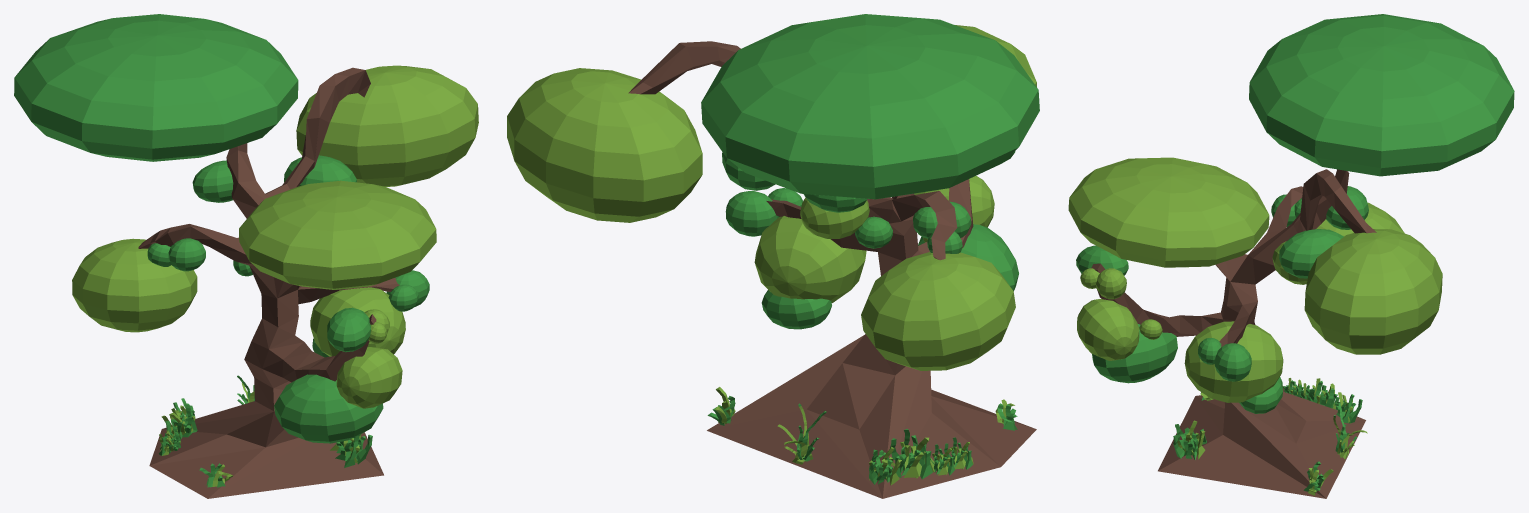
3 views of the same model, side by side, from view 1: azimuth 30°, elevation 25°; view 2: azimuth 150°, elevation 25°; view 3: azimuth 270°, elevation 25° (orthographic). The views are drawn at different scales.
Visible parts, largest first — view 1: node_MeshObject-1111887872-PolyPaper10, node_MeshObject551491840-PolyPaper10; view 2: node_MeshObject551491840-PolyPaper10, node_MeshObject-1111887872-PolyPaper10; view 3: node_MeshObject-1111887872-PolyPaper10, node_MeshObject551491840-PolyPaper10.
Boxes of the visible parts, box(x1,y1,x2,y2) form: node_MeshObject-1111887872-PolyPaper10: box(14, 14, 436, 467); node_MeshObject551491840-PolyPaper10: box(138, 65, 478, 498); node_MeshObject551491840-PolyPaper10: box(507, 41, 1036, 498); node_MeshObject-1111887872-PolyPaper10: box(701, 14, 1039, 485); node_MeshObject-1111887872-PolyPaper10: box(1068, 14, 1514, 459); node_MeshObject551491840-PolyPaper10: box(1076, 169, 1442, 498).
Bounding box in the file's own units: 0.972 × 0.8319 × 0.8944.
